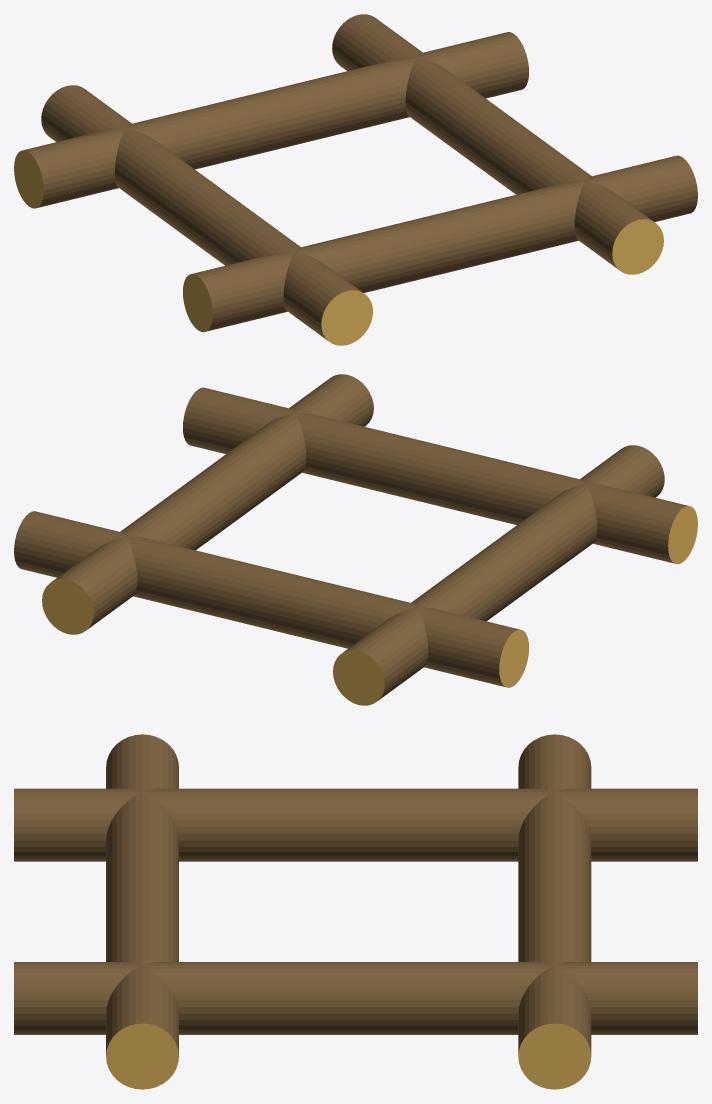
File: WOOD.fbx
3 views of the same model, one above another, from view 1: azimuth 30°, elevation 25°; view 2: azimuth 150°, elevation 25°; view 3: azimuth 270°, elevation 25° (orthographic). The views are drawn at different scales.
Parts seen in each view (by area): view 1: Cylinder.003; view 2: Cylinder.003; view 3: Cylinder.003.
Boxes of the visible parts, <box> form: Cylinder.003: <box>14,14,697,345</box>; Cylinder.003: <box>14,374,697,705</box>; Cylinder.003: <box>14,734,697,1089</box>.
Size of the model in its own units: 994 by 994 by 106.
